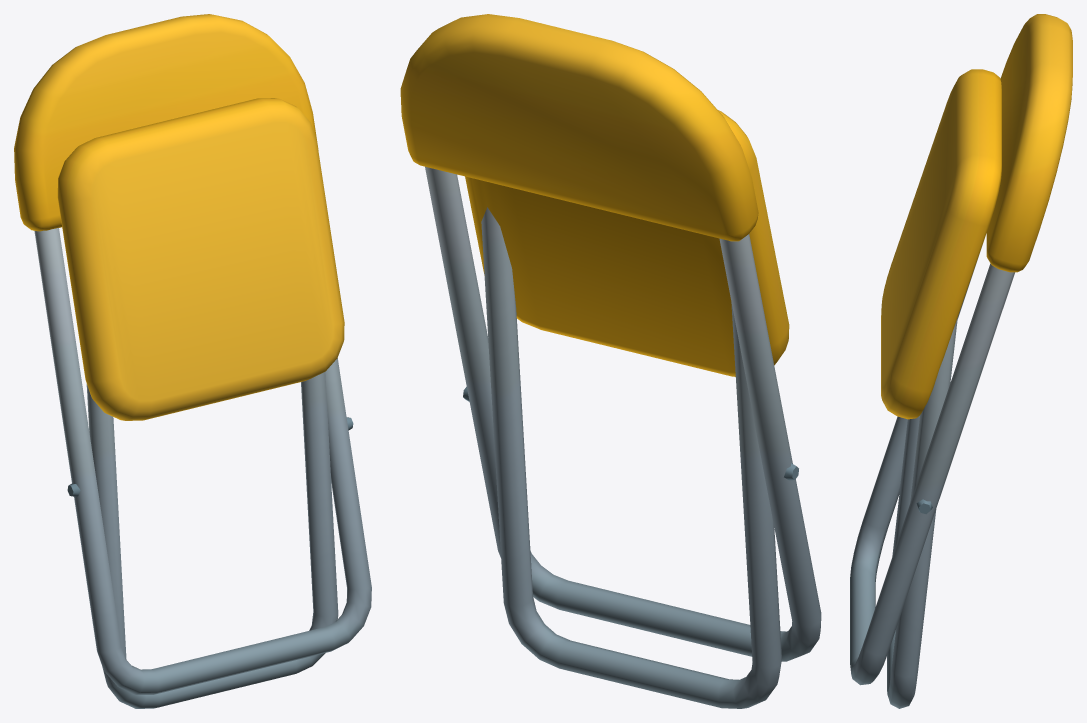
The model's file is Chair_10.glb.
3 views of the same model, side by side, from view 1: azimuth 30°, elevation 25°; view 2: azimuth 150°, elevation 25°; view 3: azimuth 270°, elevation 25° (orthographic). The views are drawn at different scales.
Parts seen in each view (by area): view 1: Chair_10; view 2: Chair_10; view 3: Chair_10.
Part boxes in pixels (bbox=[...]): Chair_10: bbox=[14, 14, 371, 708]; Chair_10: bbox=[400, 14, 821, 708]; Chair_10: bbox=[850, 14, 1072, 708].
Size of the model in its own units: 0.4609 by 0.9327 by 0.3012.
Materials: 1 (1 with a texture image).
